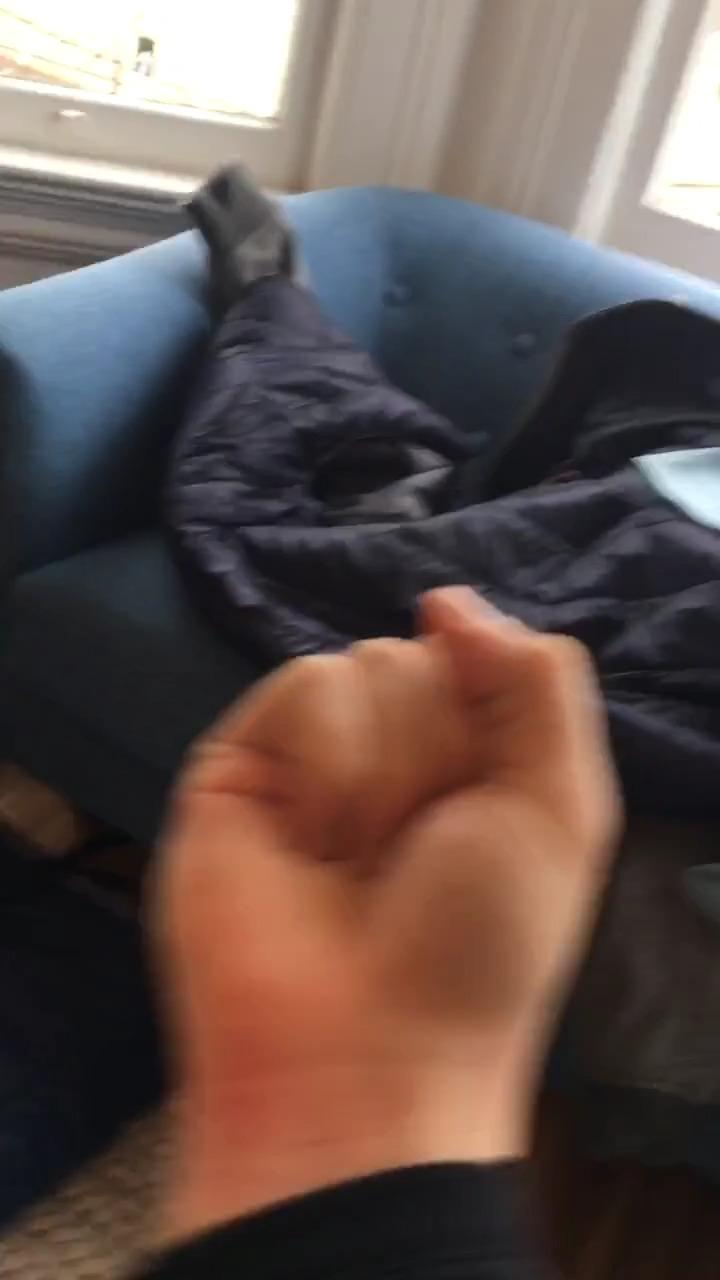Rock: (158, 576, 626, 1093)
